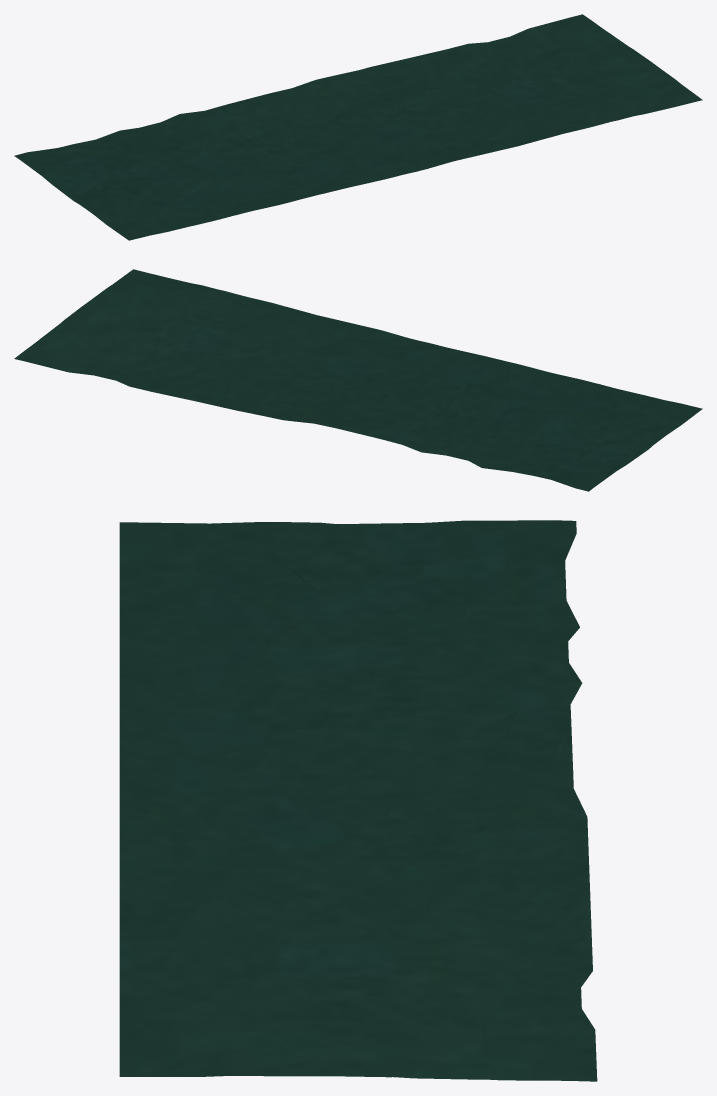
3 renders of one model, top to bottom at view 1: azimuth 30°, elevation 25°; view 2: azimuth 150°, elevation 25°; view 3: azimuth 270°, elevation 25°, orthographic. The views are drawn at different scales.
Size of the model in its own units: 104 by 0.8834 by 37.92.
Materials: 1 (1 with a texture image).
